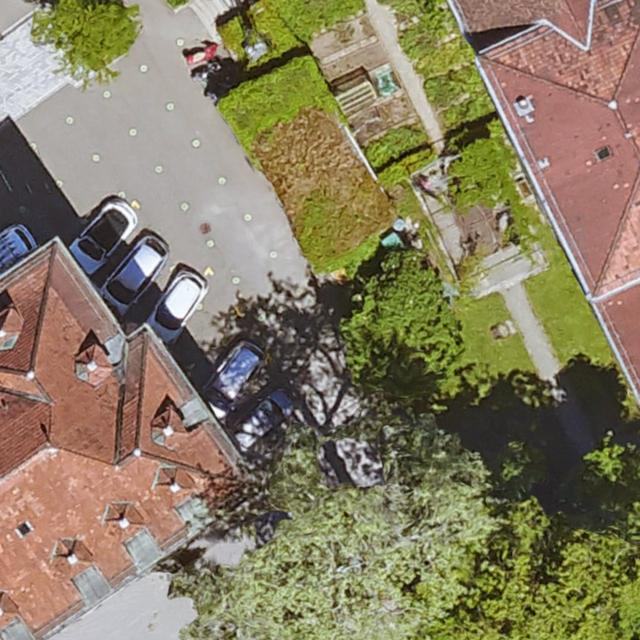tree: (185, 429, 490, 640), (460, 502, 640, 640), (338, 251, 460, 392), (36, 0, 133, 72)
